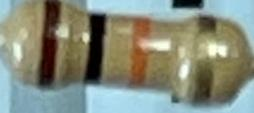Black: (83, 14, 109, 84)
Brown: (35, 0, 64, 91)
Orange: (125, 16, 153, 91)
Side-Gold: (190, 16, 217, 105)
